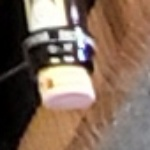bottle: (17, 30, 116, 121)
